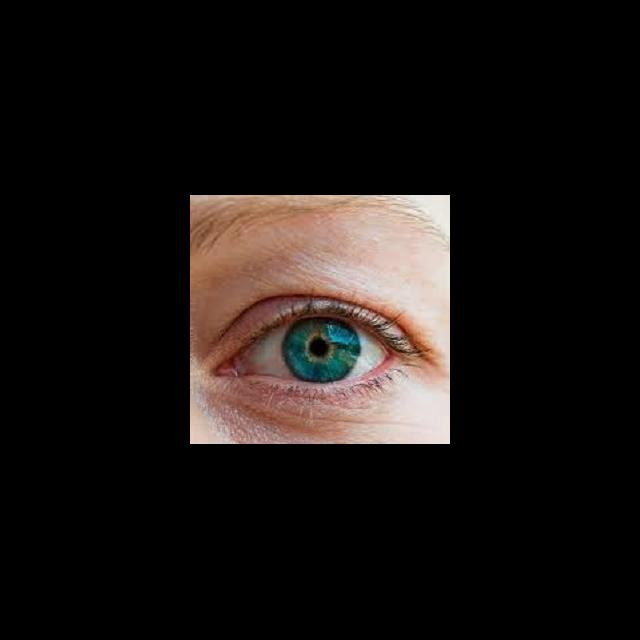eye: (237, 315, 389, 385)
iris: (283, 318, 359, 384)
